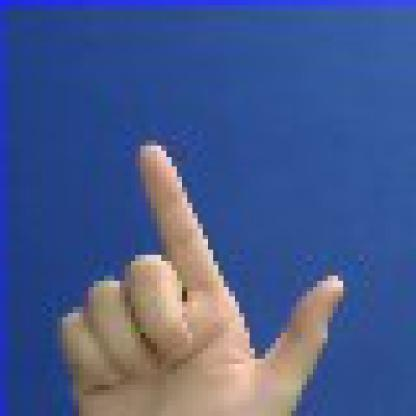seven: (31, 119, 359, 410)
